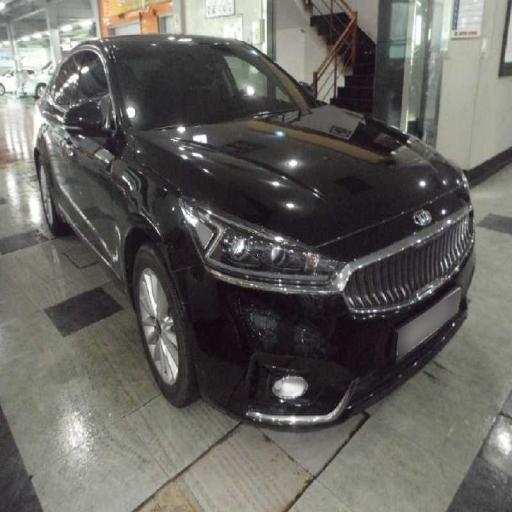dent: (106, 92, 369, 336)
